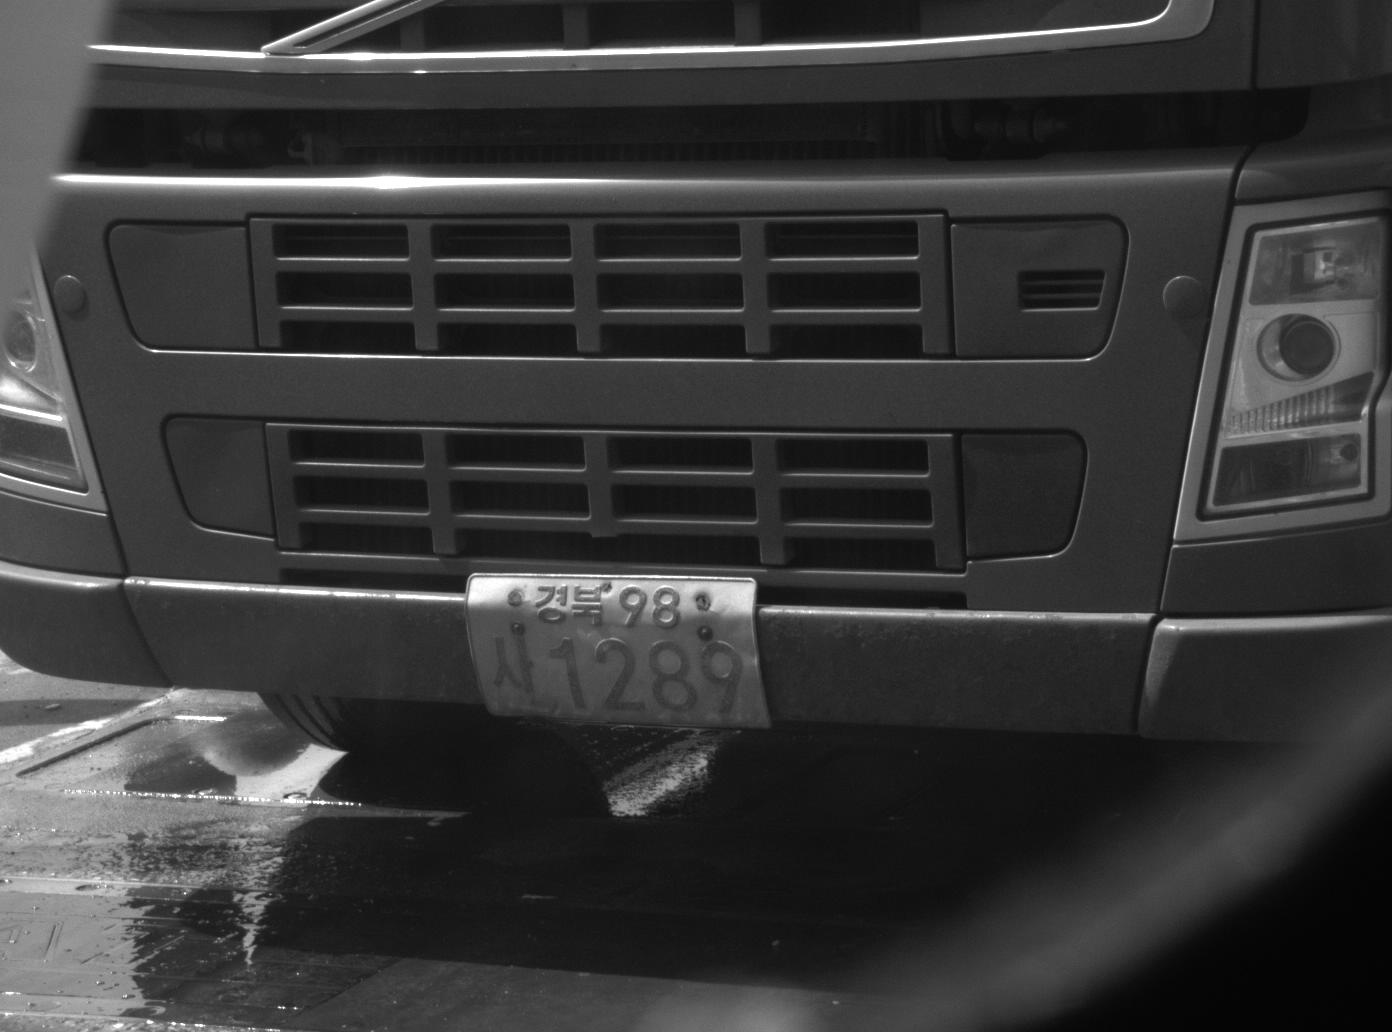car: (1, 1, 1389, 771)
plate: (463, 566, 779, 737)
